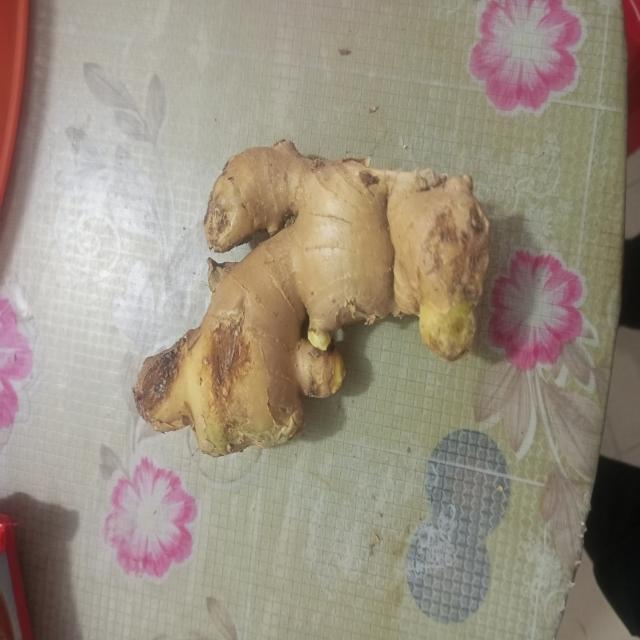ginger: (154, 152, 485, 450)
